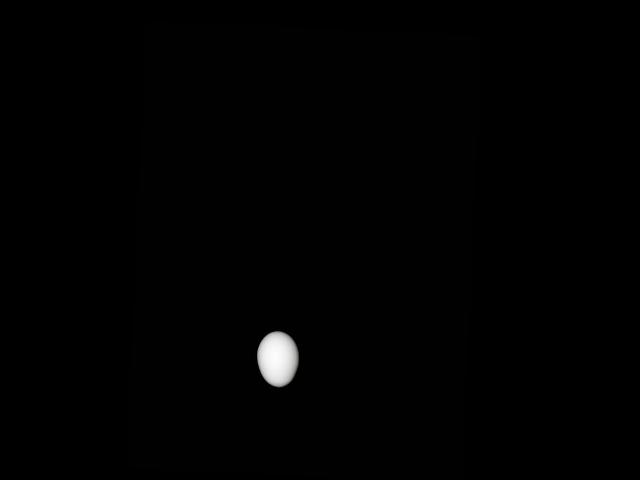egg: (256, 329, 299, 387)
